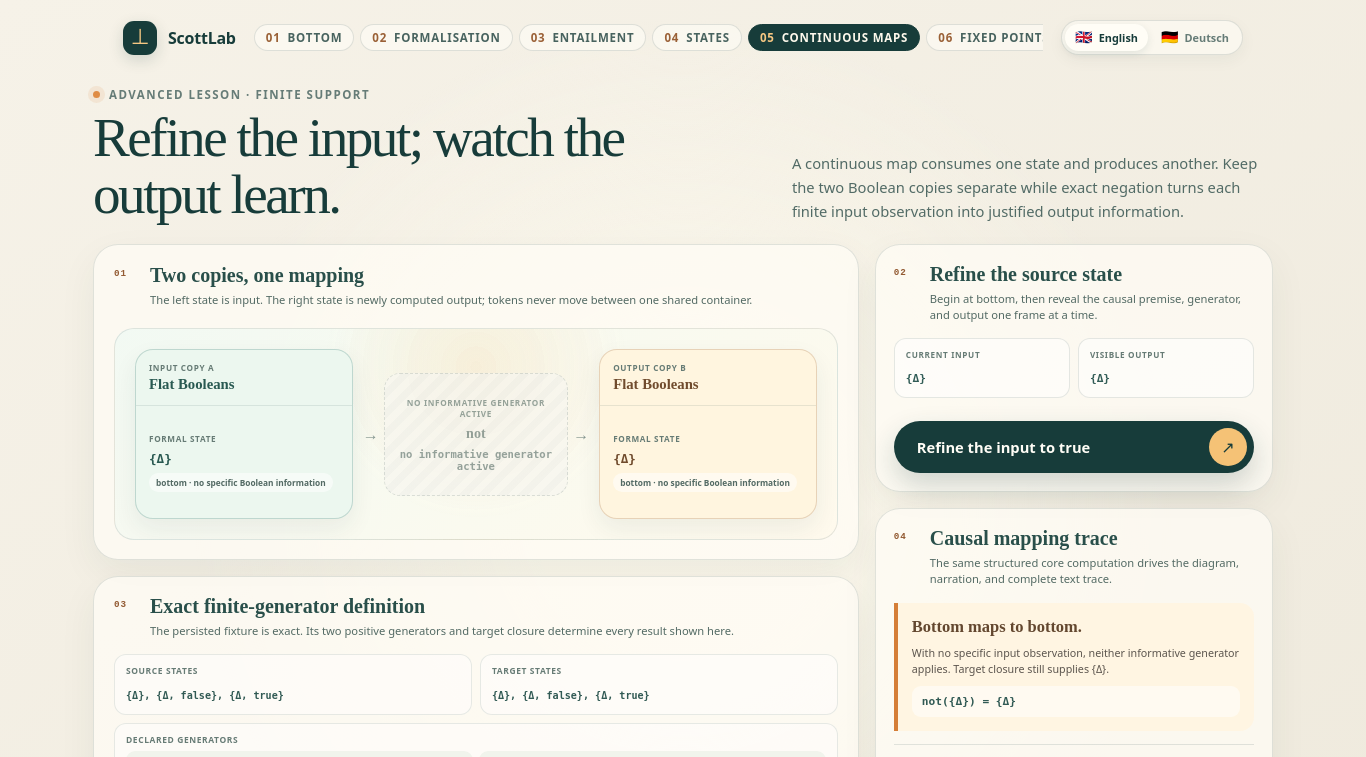
Test: ScottLab introduction and bottom-first lesson › opens the maps hash directly and translates an in-progress trace
The width and height of the screenshot is (1366, 757).
Click the button "Refine the input to true ↗". click: (1074, 447)
box: top-left (894, 421), bottom-right (1254, 473)
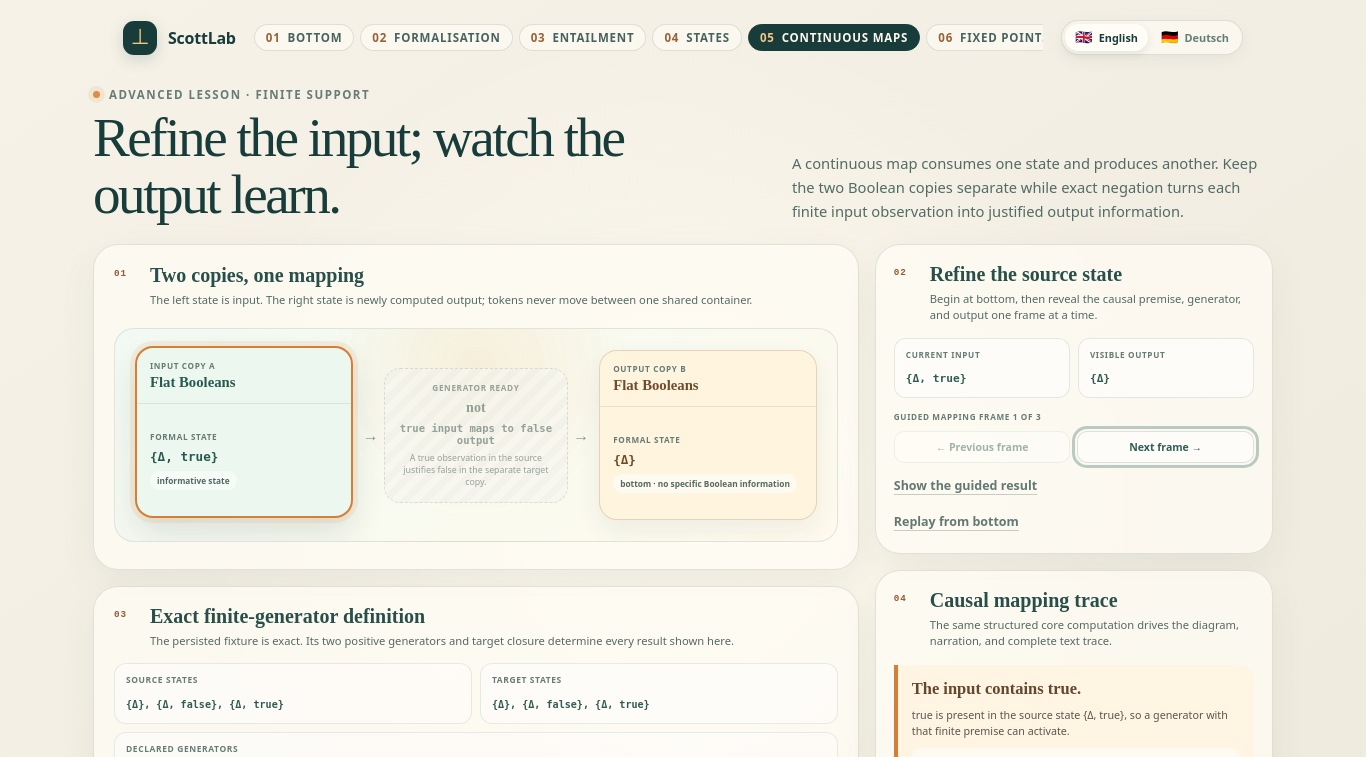
Click the button "Next frame →". click: (1166, 447)
box: top-left (1077, 431), bottom-right (1254, 463)
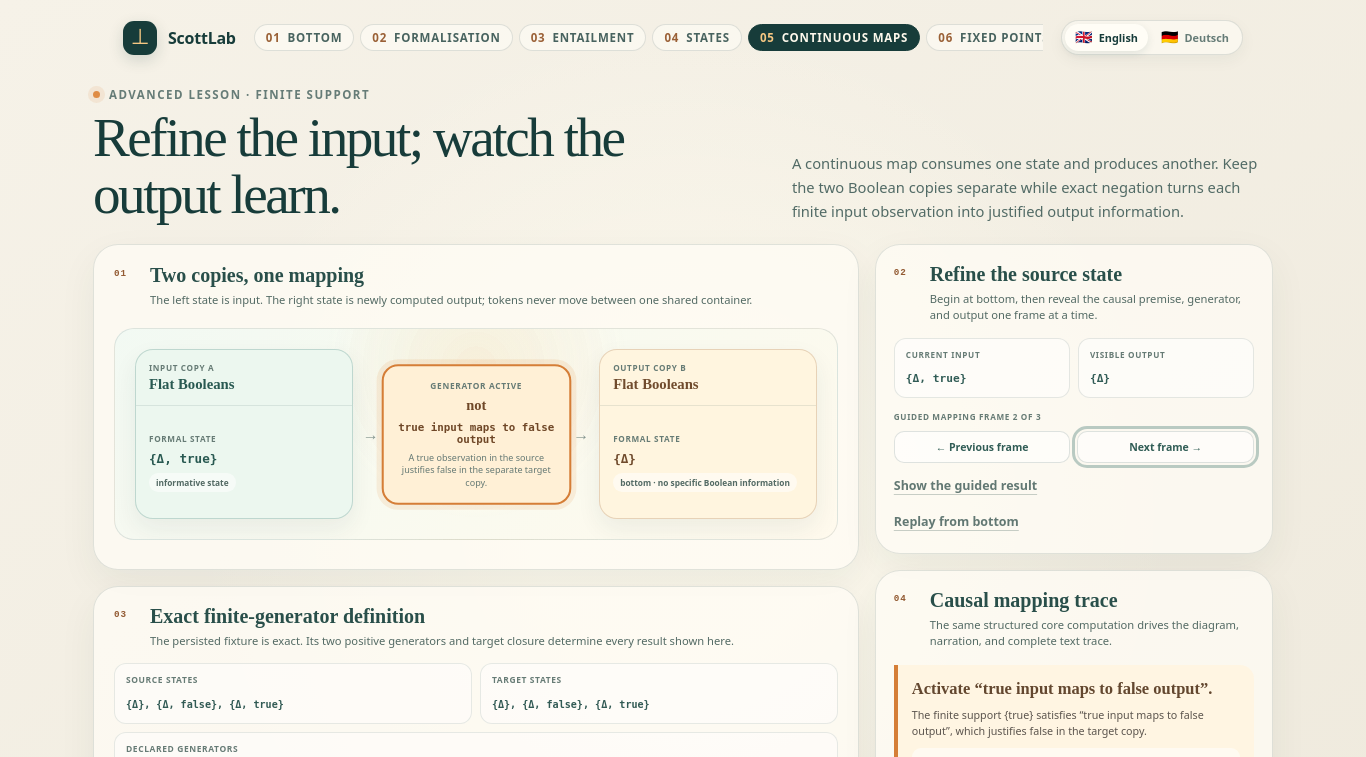
Click the button with aria-label "Choose Deutsch". click: (1195, 38)
box: top-left (1151, 24), bottom-right (1239, 51)
(page scrolled)
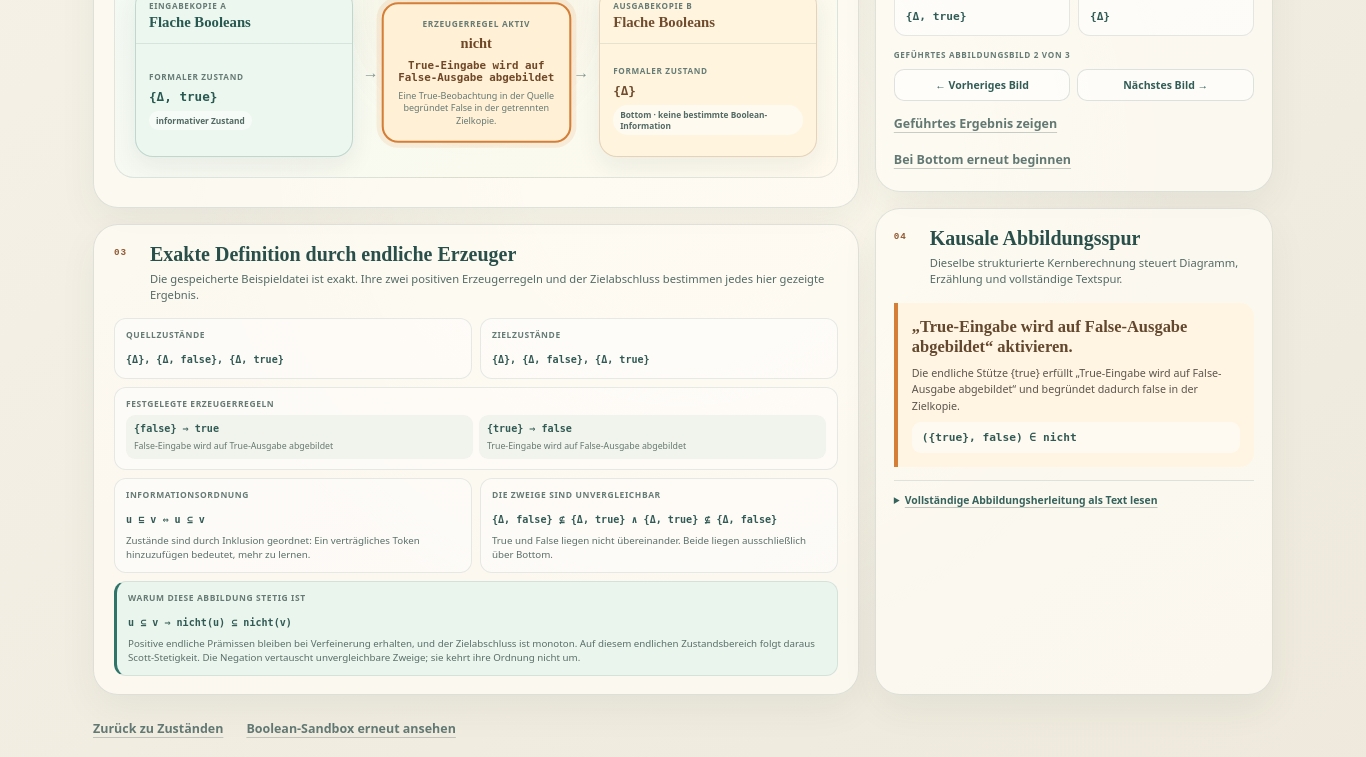
Check: the text "Geführtes Abbildungsbild 2 von 3" is shown, box top-left (894, 49), bottom-right (1070, 60)
Check: the text "„True-Eingabe wird auf False-Ausgabe abgebildet“ aktivieren." is shown, box top-left (912, 317), bottom-right (1187, 356)
